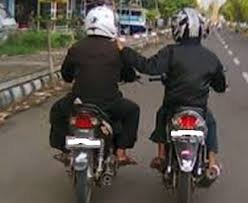motor: (156, 99, 220, 203), (66, 102, 117, 200)
